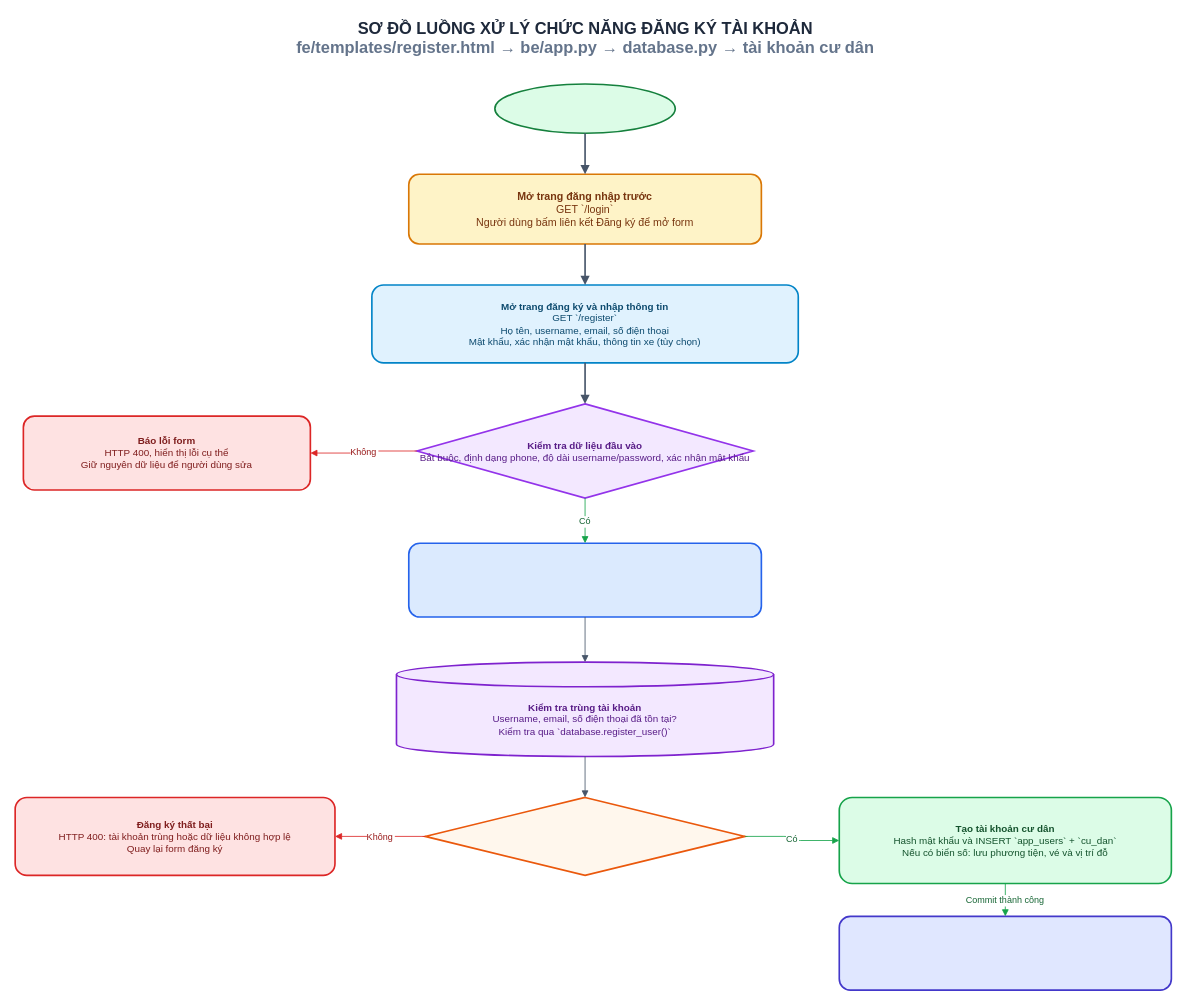
Image size: 1186x1005. Some labels were removed from this diagram. Here are the shapes that lost their labels. From the top down, the centre of each, then its label:
At pixel 585 108: "START".
At pixel 585 579: "Gửi yêu cầu đăng ký POST `/api/register` `be/app.py: api_register()`".
At pixel 584 836: "Thông tin hợp lệ và chưa tồn tại?".
At pixel 1005 953: "Đăng ký thành công HTTP 200, thông báo yêu cầu đăng nhập Chuyển sang `/login`".
